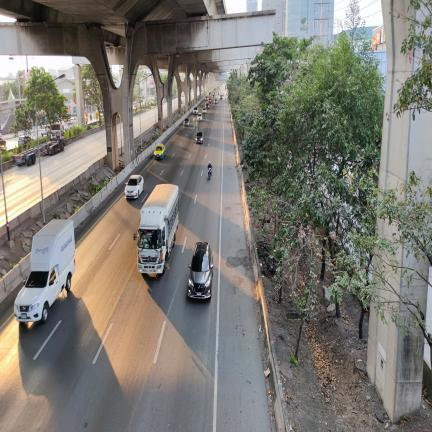car: (188, 242, 213, 299), (125, 175, 144, 199)
motorbike: (208, 167, 211, 179)
taxi: (154, 144, 166, 159)
truck: (14, 220, 75, 323), (133, 184, 179, 275)
truck trailer: (39, 124, 65, 156), (12, 147, 39, 166)
